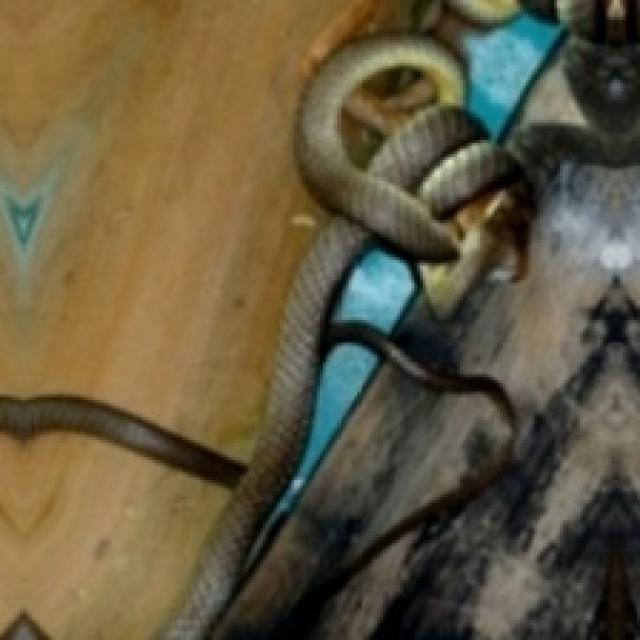paradise tree snake: (0, 0, 406, 457), (0, 434, 226, 637)
